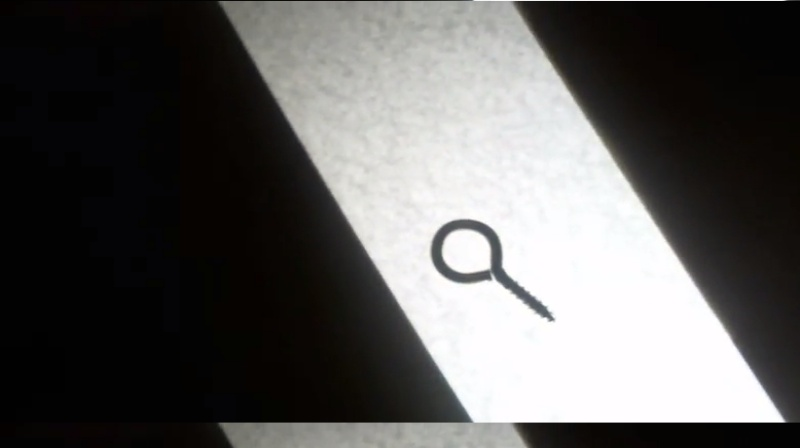O001: (427, 216, 559, 329)
